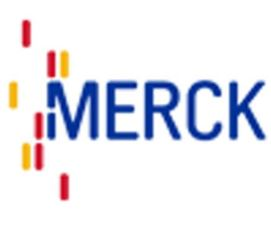Merck: (6, 18, 271, 204)
